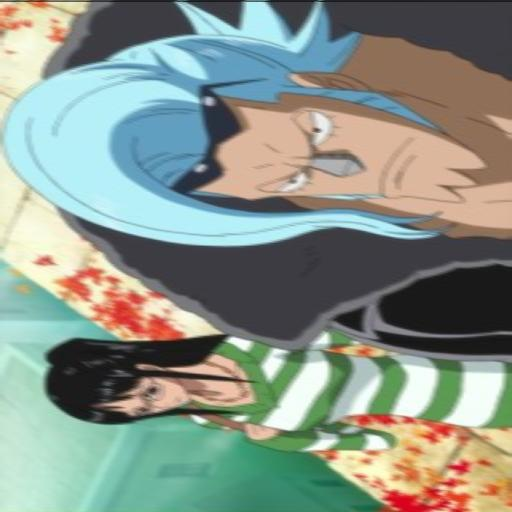NicoRobin: (37, 328, 212, 442)
